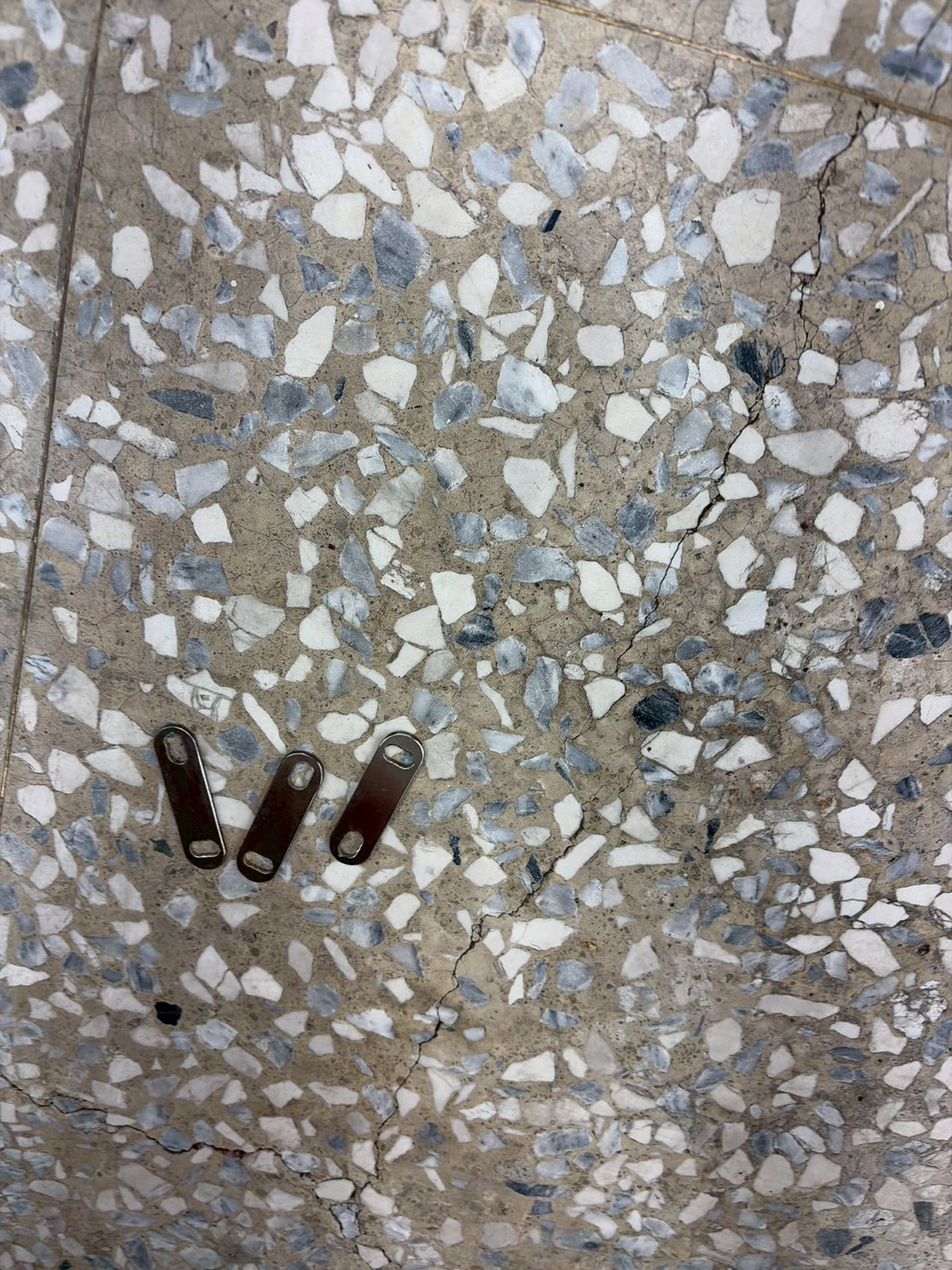Fe: (150, 722, 229, 872), (383, 719, 437, 866), (284, 740, 338, 881)
